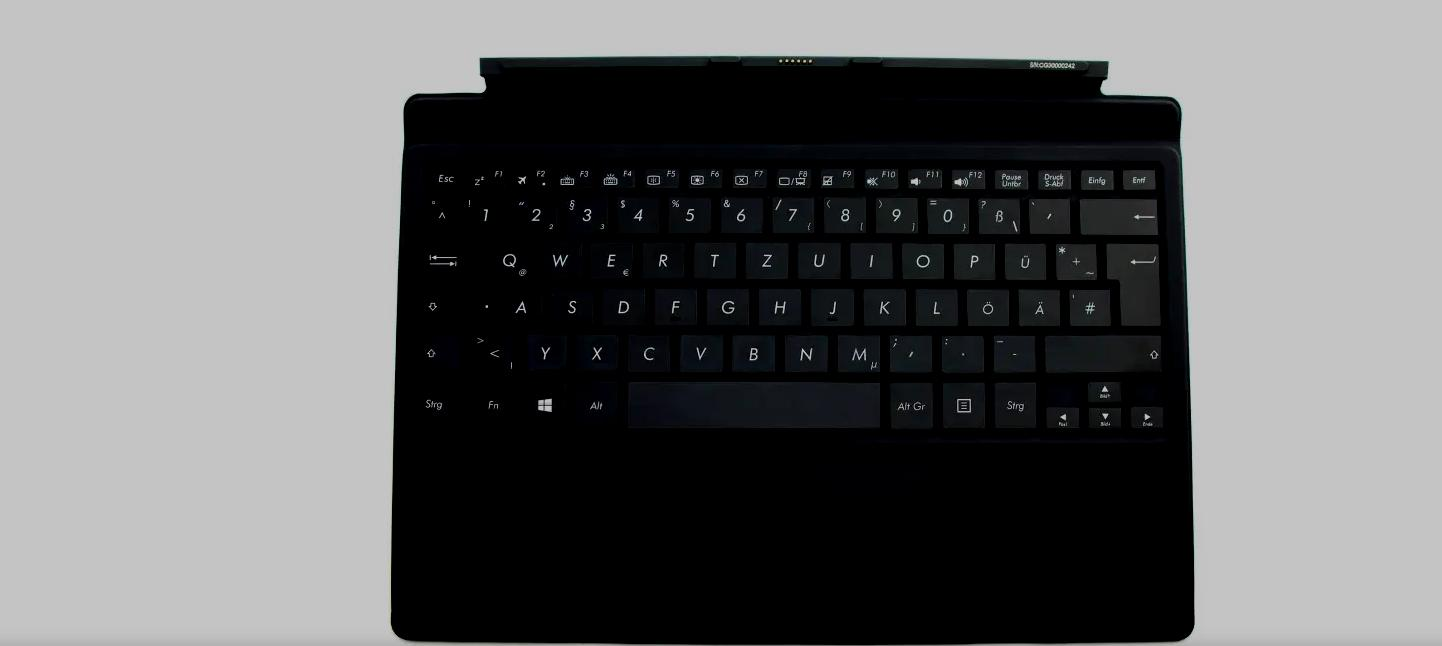0: (924, 194, 969, 234)
1: (462, 192, 506, 233)
2: (511, 193, 557, 233)
3: (561, 192, 608, 234)
4: (613, 193, 658, 234)
5: (665, 194, 711, 233)
6: (716, 193, 763, 233)
7: (768, 193, 814, 233)
8: (820, 193, 867, 233)
9: (872, 194, 917, 234)
a: (498, 284, 543, 326)
accent: (1026, 195, 1069, 234)
ae: (1015, 286, 1060, 328)
alt-left: (572, 377, 618, 430)
altgr-right: (887, 378, 934, 430)
b: (729, 330, 776, 372)
c: (624, 329, 672, 372)
caret: (424, 192, 456, 234)
comma: (886, 331, 932, 373)
d: (600, 283, 645, 326)
del: (1076, 196, 1158, 235)
e: (588, 237, 633, 279)
enter: (1105, 242, 1161, 329)
f: (652, 284, 697, 325)
g: (703, 283, 749, 325)
h: (756, 284, 802, 326)
hash: (1066, 286, 1111, 327)
i: (847, 239, 892, 279)
j: (808, 284, 853, 326)
k: (860, 284, 906, 326)
keyboard: (407, 151, 1176, 447)
l: (912, 285, 957, 326)
less: (470, 331, 516, 371)
m: (834, 331, 881, 373)
minus: (990, 333, 1035, 372)
n: (781, 330, 829, 373)
o: (899, 238, 944, 279)
oe: (964, 285, 1009, 326)
p: (951, 240, 995, 279)
plus: (1051, 240, 1097, 281)
point: (938, 332, 984, 372)
q: (484, 237, 532, 279)
r: (639, 238, 685, 279)
s: (548, 284, 593, 326)
shift-left: (419, 331, 463, 371)
shift-lock: (421, 285, 492, 325)
shift-right: (1041, 332, 1162, 372)
space: (625, 378, 880, 430)
ss: (975, 194, 1020, 234)
strg-left: (416, 377, 464, 429)
strg-right: (990, 378, 1038, 430)
t: (691, 237, 736, 279)
tab: (422, 239, 480, 279)
u: (794, 238, 841, 280)
ue: (1001, 240, 1046, 280)
v: (676, 329, 723, 372)
w: (536, 237, 582, 279)
x: (573, 330, 618, 371)
y: (522, 330, 567, 371)
z: (743, 238, 789, 279)
